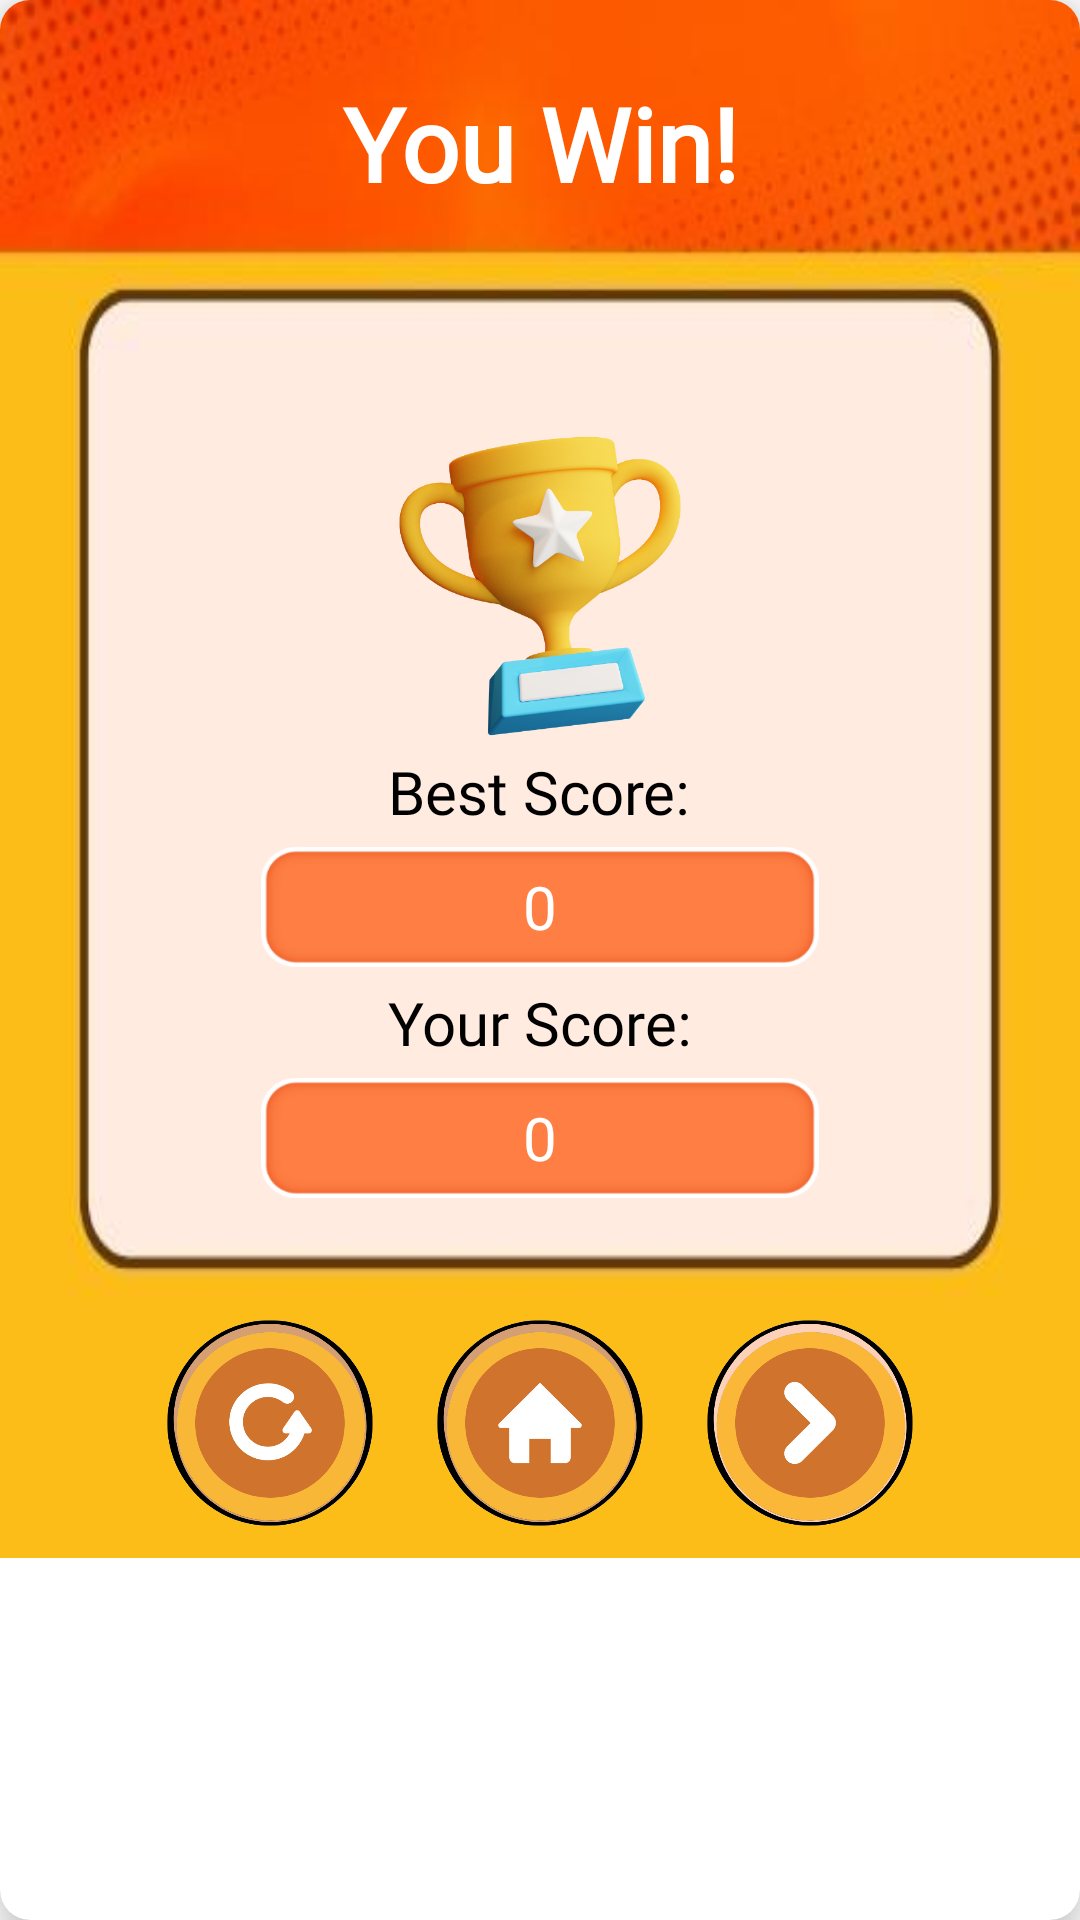

Icons on this 1080 x 1920 Android screen, each with its box as (x1, y1, x2, y2):
home: (437, 1320, 643, 1526)
next: (707, 1320, 913, 1526)
retry: (167, 1320, 373, 1526)
trophy: (399, 437, 681, 735)
